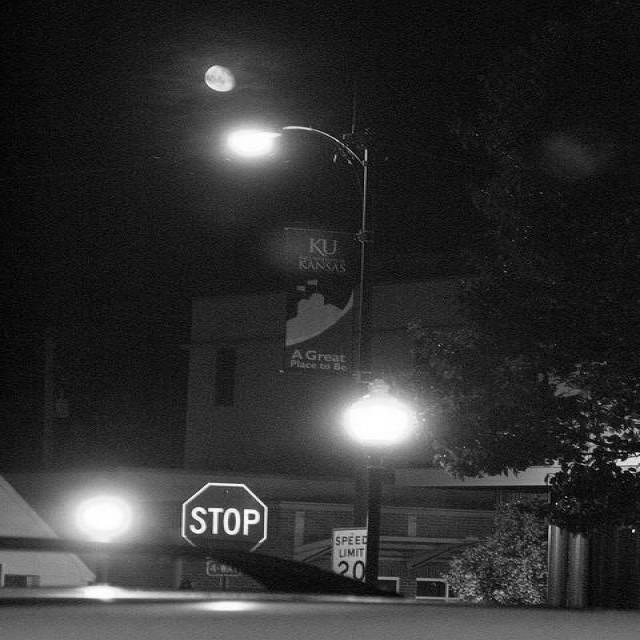vehicle: (0, 467, 640, 633)
